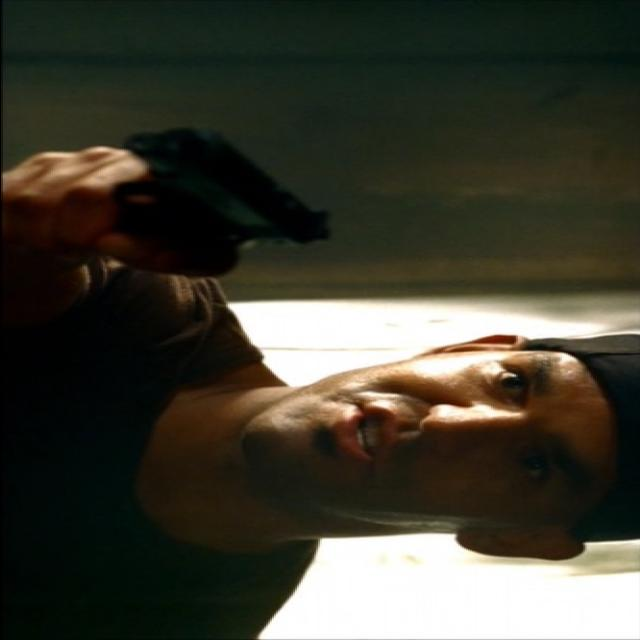weapons: (22, 116, 355, 276)
